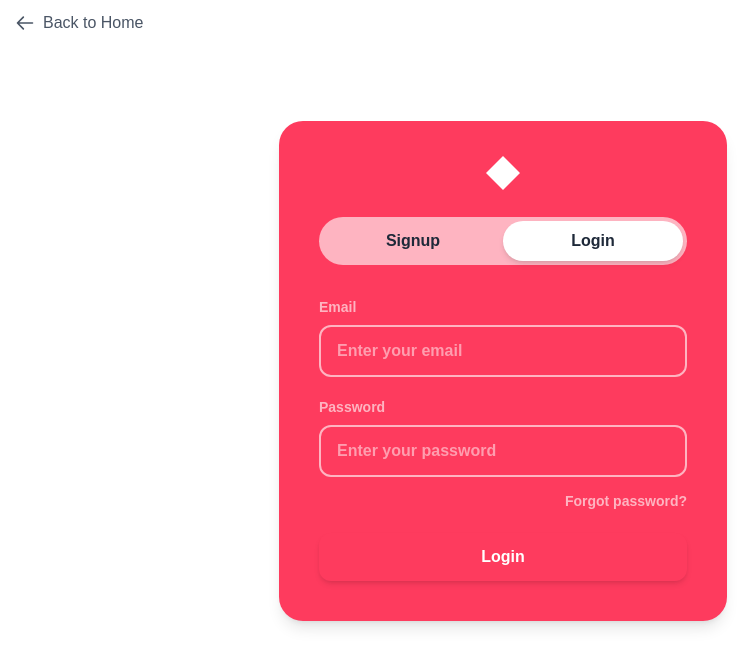
Test case: LoginPage › TC-091 [S-01]: shows a generic error message when the request fails outright
The width and height of the screenshot is (744, 667).
In the field labelled "Email": (503, 351) [319,325,687,377], type "jane@school.edu"
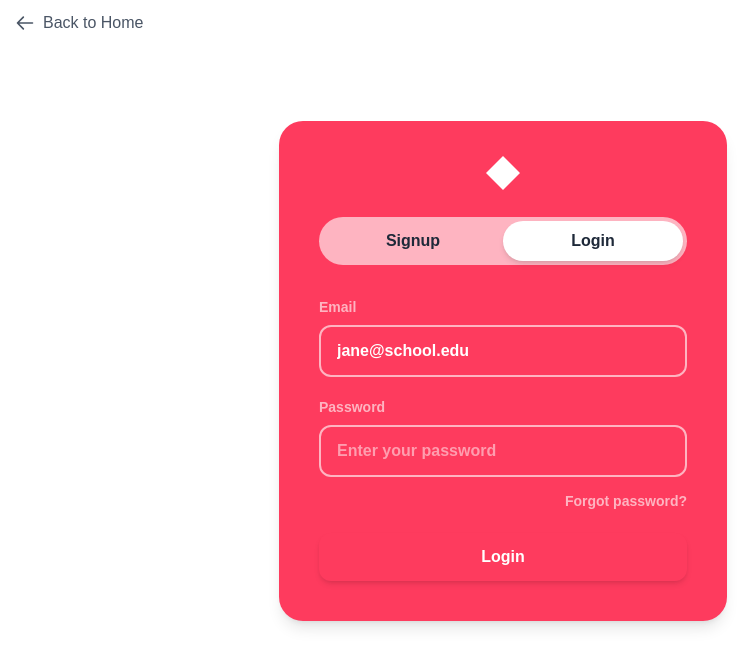
In the password field labelled "Password": (503, 451) [319,425,687,477], type "Valid123!"
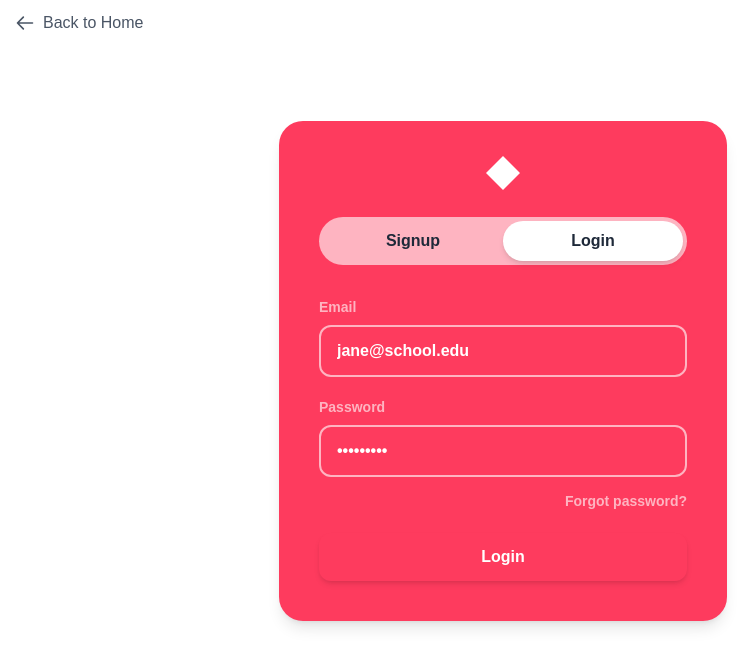
Click the button "Login": (503, 557) [319,533,687,581]
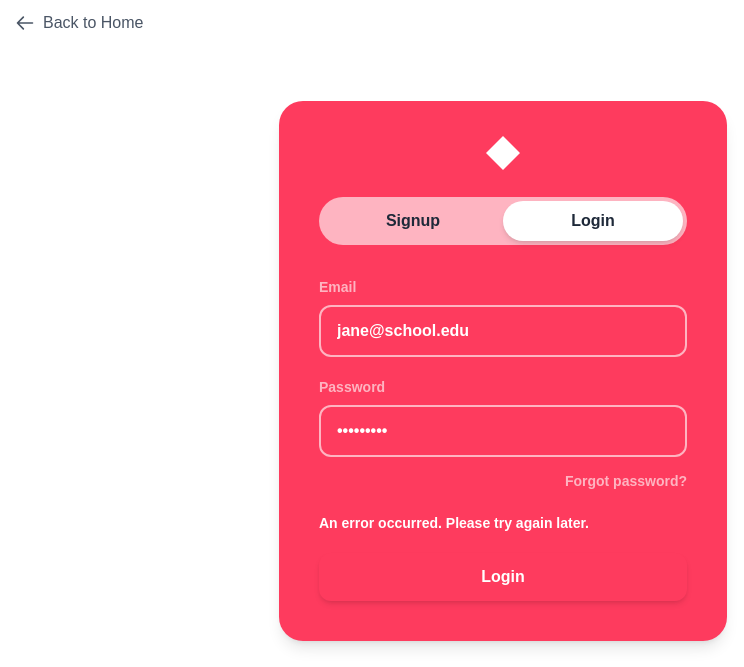
expect the text "An error occurred. Please try again later." is shown: met, box [319,515,589,531]
